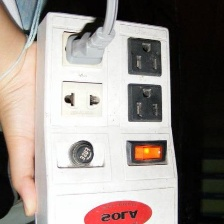three_eye_plug: (29, 8, 182, 224)
